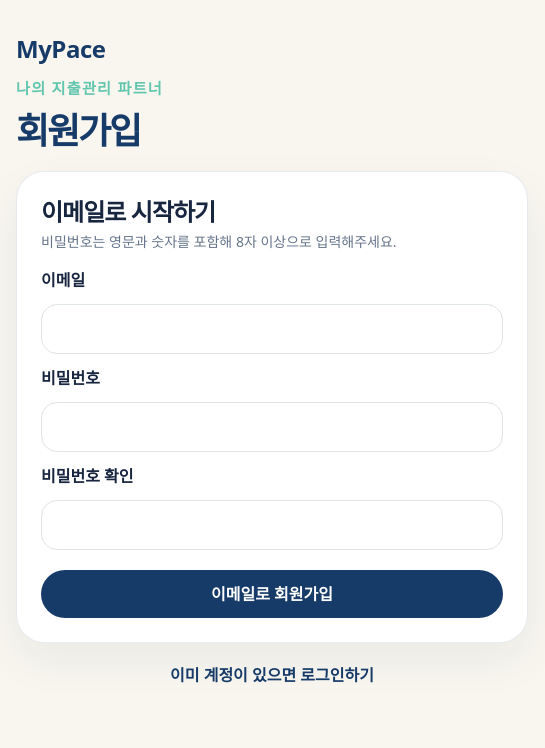
it: SignupPage › shows a password rule guide before requesting sign-up
Type "youngchan@example.com" into the field labelled "이메일" at (272, 329), box [41,304,503,354]
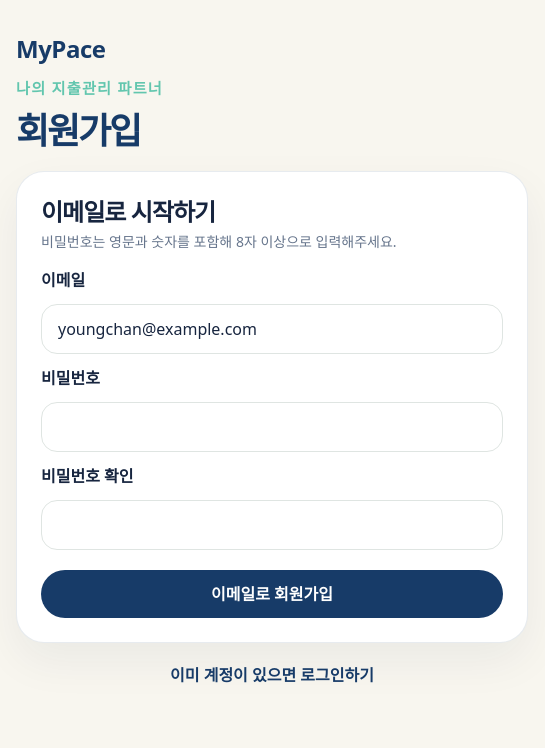
Type "password" into the password field labelled "비밀번호" at (272, 427), box [41,402,503,452]
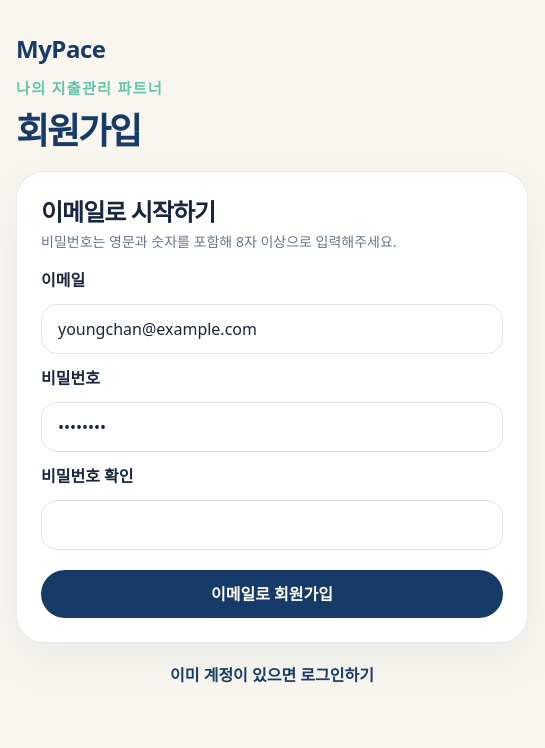
Type "password" into the password field labelled "비밀번호 확인" at (272, 525), box [41,500,503,550]
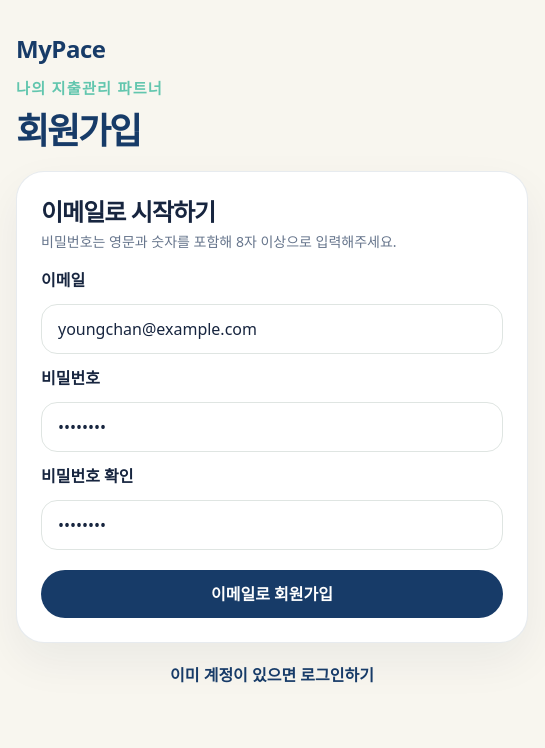
Click the button "이메일로 회원가입" at (272, 594), box [41,570,503,618]
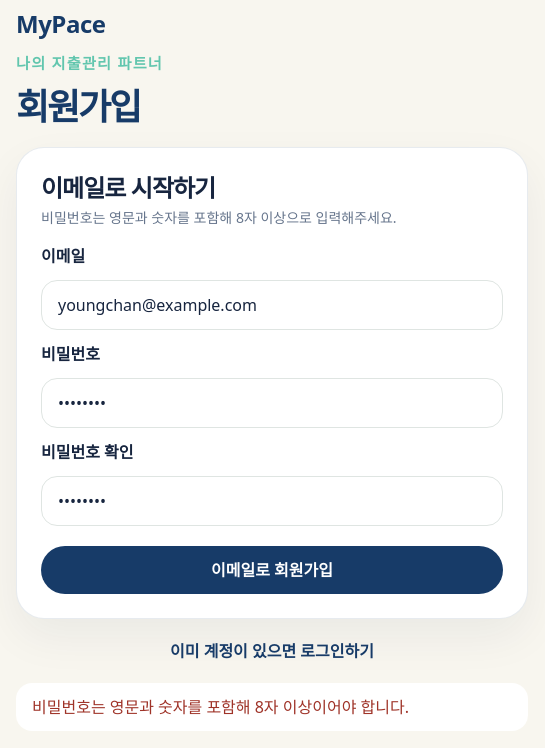
Expected: the message reads "비밀번호는 영문과 숫자를 포함해 8자 이상이어야 합니다.", [32,696,409,718]
